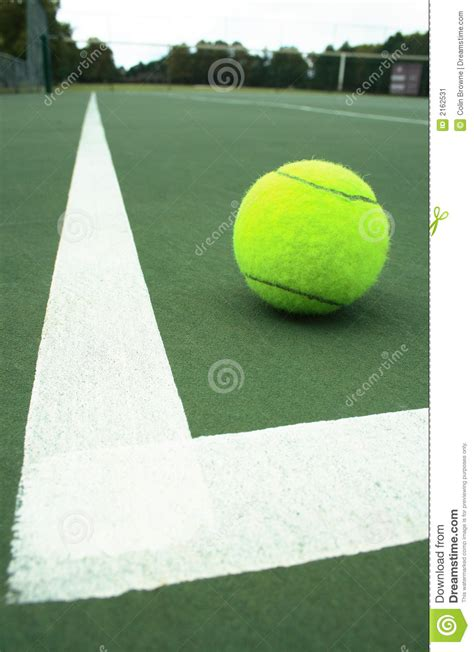tennis_ball: (231, 158, 390, 316)
